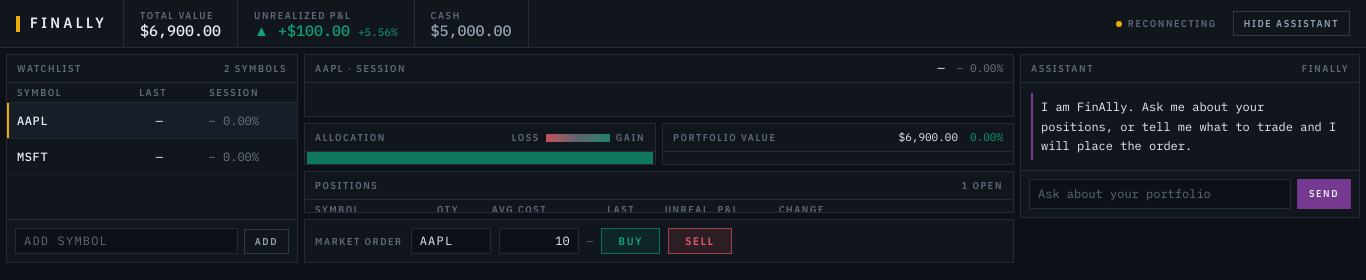
Test: Workstation › collapses and restores the assistant panel
This screenshot has width=1366, height=280.
Expected: the button with test id "watchlist-row-AAPL" is shown, x1=7 y1=103 x2=297 y2=139
Click the button with test id "chat-toggle" at (1291,24), box x1=1233 y1=11 x2=1350 y2=36
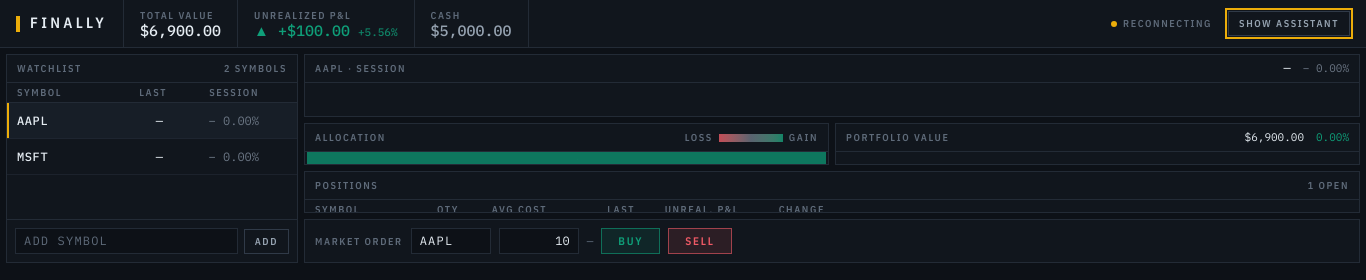
Result: the element with test id "chat-panel" is gone
Click the button with test id "chat-toggle" at (1289,24), box x1=1228 y1=11 x2=1350 y2=36
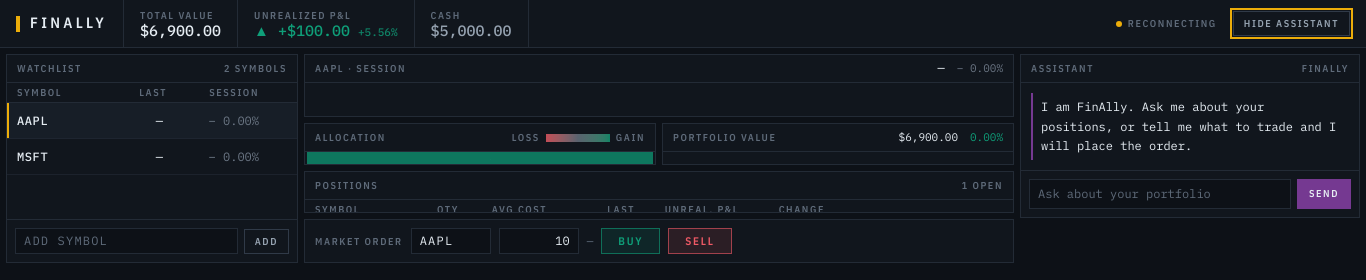
Result: the element with test id "chat-panel" is shown at x1=1020 y1=54 x2=1360 y2=218
